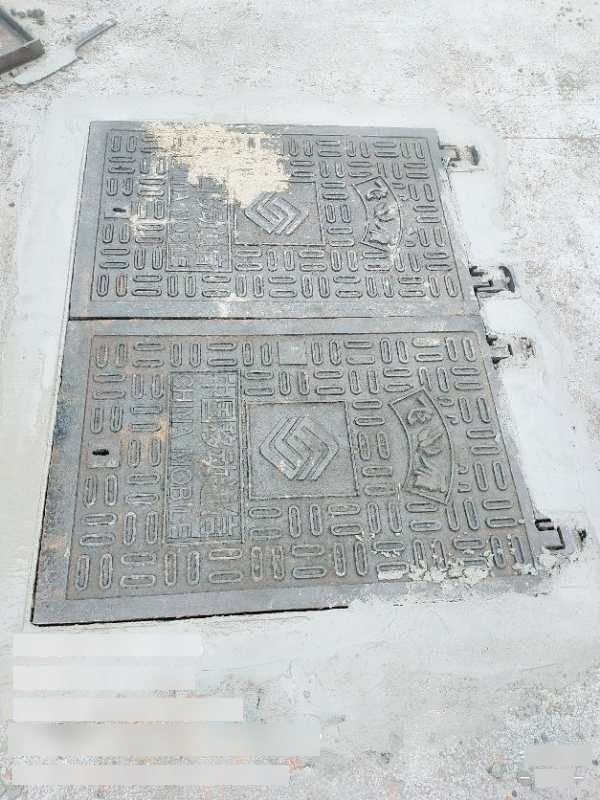good: (25, 118, 566, 628)
